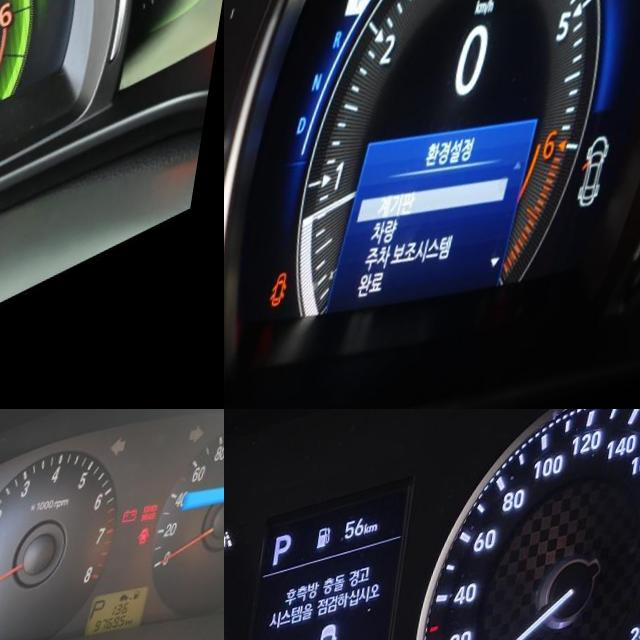Central Warning lamp: (490, 409, 510, 420)
Doors: (278, 278, 301, 317), (145, 541, 162, 563)
LaneCenteringOff: (224, 536, 239, 565)
